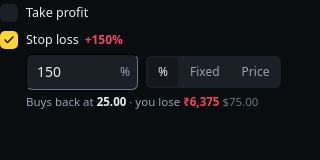
Test: fixed points › [critical] switching to Fixed reads points from the entry: sold at 10, stop 10 pts buys back at 20
Click the radio button labelled "Fixed".
click(205, 72)  # box [180,58,230,86]
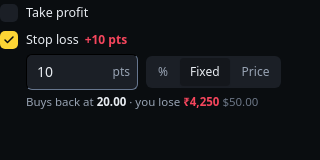
Expected: the field named "stop points" holds "10", [26,54,138,90]
Expected: the text "+10 pts" is shown, [85,31,127,49]
Expected: the text "20.00" is shown, [97,94,126,108]
